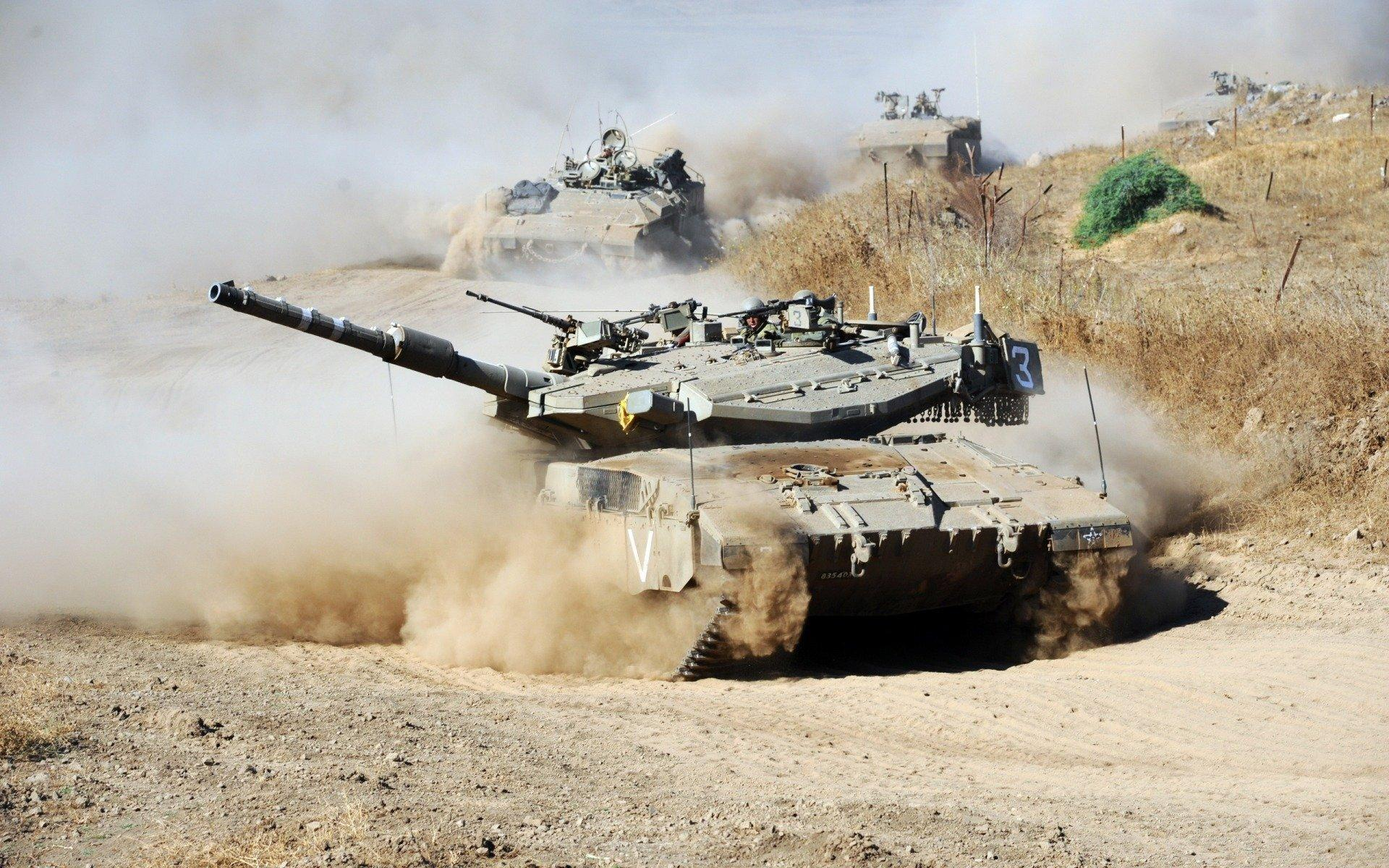tank: (221, 267, 1174, 690), (475, 129, 708, 277), (833, 89, 980, 180)
